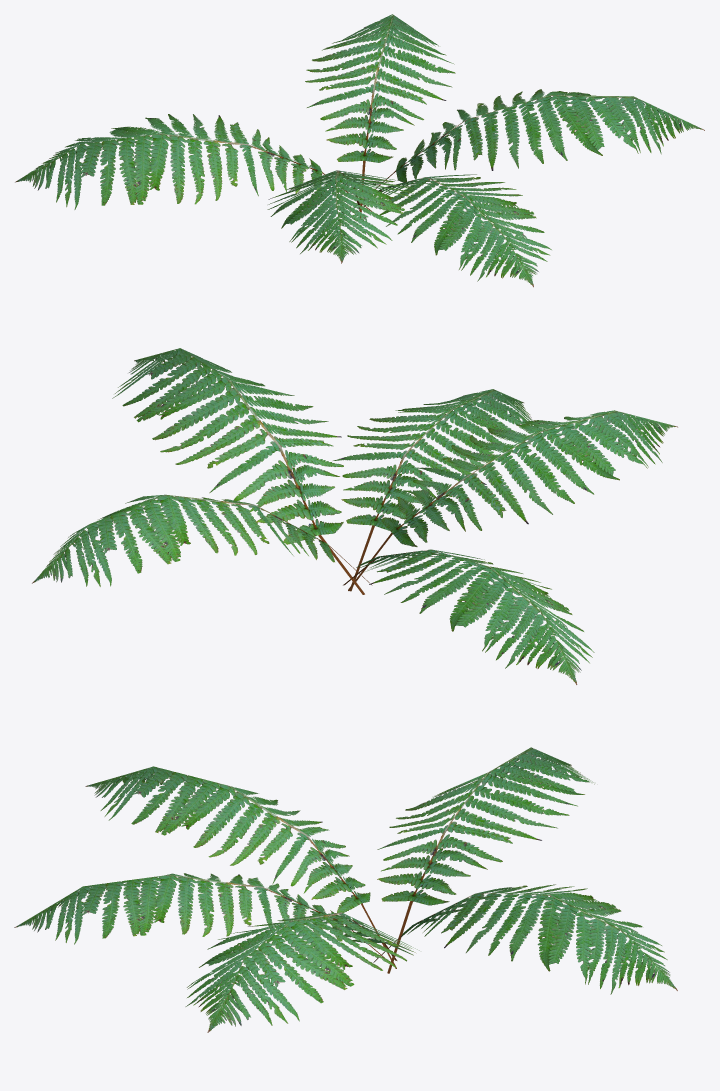
Rendered from Fern_02_04.obj.
The picture shows the model from 3 angles, top to bottom: view 1: azimuth 30°, elevation 25°; view 2: azimuth 150°, elevation 25°; view 3: azimuth 270°, elevation 25°; orthographic projection. The views are drawn at different scales.
Parts seen in each view (by area): view 1: polySurface11; view 2: polySurface11; view 3: polySurface11.
Part boxes in pixels (box(x1,y1,x2,y2)): polySurface11: box(15, 14, 704, 287); polySurface11: box(32, 348, 677, 684); polySurface11: box(14, 747, 677, 1032).
Bounding box in the file's own units: 28.35 × 5.42 × 25.15.
